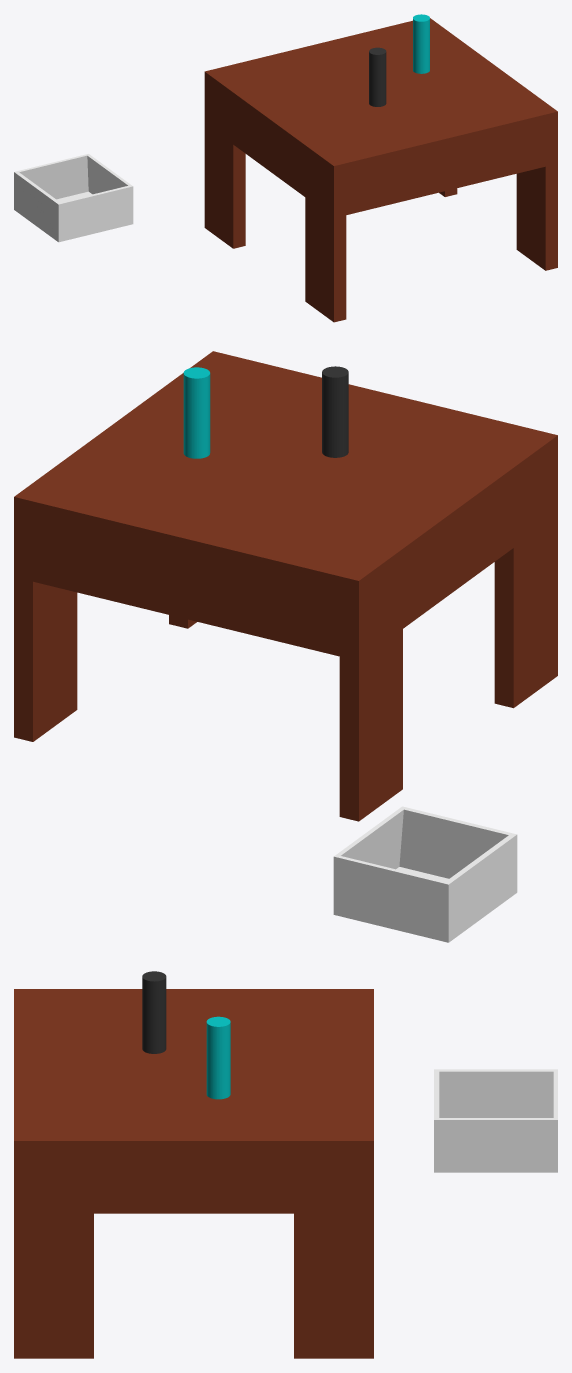
File: can_world_2_cans.dae
3 renders of one model, top to bottom at view 1: azimuth 30°, elevation 25°; view 2: azimuth 150°, elevation 25°; view 3: azimuth 270°, elevation 25°, orthographic. The views are drawn at different scales.
Parts seen in each view (by area): view 1: base (×6), SketchUp (×2); view 2: base (×6), SketchUp (×2); view 3: base (×5), SketchUp (×2).
Part boxes in pixels (x1,y1,x2,y2): base (×6): (204,14,557,322); SketchUp (×2): (14,154,133,242); base (×6): (14,351,557,821); SketchUp (×2): (333,806,517,942); base (×5): (14,971,373,1358); SketchUp (×2): (434,1069,557,1172).
Bounding box in the file's own units: 1.4 × 1.36 × 0.811.
